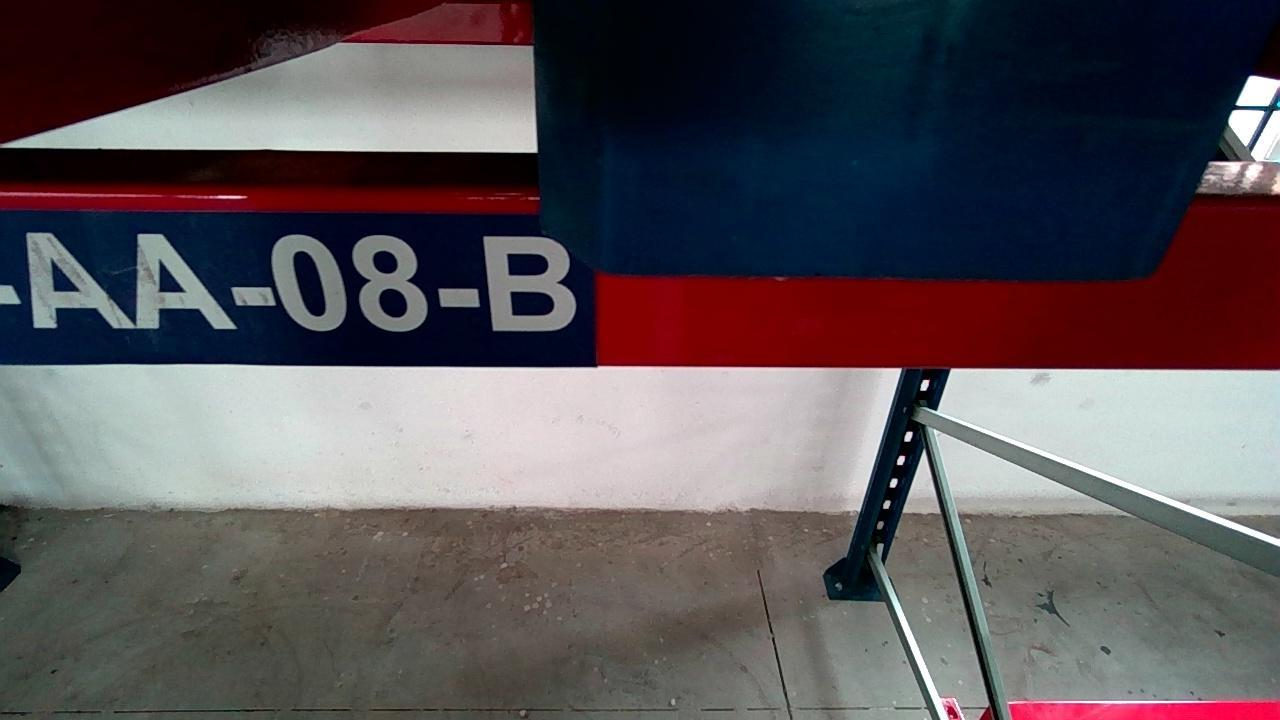h_rack: (2, 195, 1280, 368)
